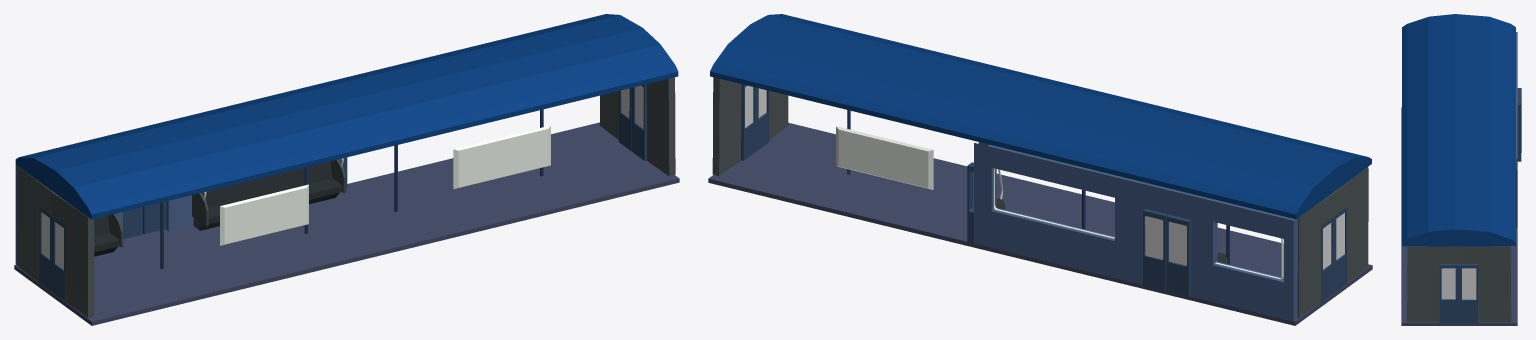
Rendered from kereta kertaan2.fbx.
3 renders of one model, left to right at view 1: azimuth 30°, elevation 25°; view 2: azimuth 150°, elevation 25°; view 3: azimuth 270°, elevation 25°, orthographic. The views are drawn at different scales.
Visible parts, largest first — view 1: Atap, Lantai, Tembok.003, Jendela.002, Jendela, Tembok.2, Kursi.001, Tembok, Pintu.1, HandRest.001, Pintu.004, Pintu.003 (+4 smaller); view 2: Atap, Tembok, Lantai, Tembok.003, Jendela.003, Tembok.2, Pintu(bg).001, Pintu(bg).002, Pintu.002, Kaca(bg).003, Pintu.004, Pintu.003 (+3 smaller); view 3: Atap, Tembok.2, Lantai, Pintu.1, Pintu.002, Kaca.001, Kaca, Pintu(bg).002, Tembok, Pintu(bg).004.
Part boxes in pixels (left/top/right/bottom): Atap: left=15, top=14, right=678, bottom=219; Lantai: left=14, top=122, right=679, bottom=325; Tembok.003: left=18, top=167, right=94, bottom=317; Jendela.002: left=453, top=125, right=550, bottom=189; Jendela: left=220, top=184, right=308, bottom=245; Tembok.2: left=599, top=77, right=675, bottom=176; Kursi.001: left=193, top=161, right=342, bottom=230; Tembok: left=15, top=159, right=340, bottom=265; Pintu.1: left=632, top=84, right=646, bottom=160; HandRest.001: left=192, top=159, right=345, bottom=226; Pintu.004: left=39, top=206, right=52, bottom=292; Pintu.003: left=52, top=216, right=65, bottom=301; Atap: left=710, top=14, right=1371, bottom=219; Tembok: left=974, top=142, right=1297, bottom=321; Lantai: left=708, top=122, right=1372, bottom=325; Tembok.003: left=1297, top=167, right=1368, bottom=317; Jendela.003: left=836, top=126, right=933, bottom=189; Tembok.2: left=712, top=77, right=788, bottom=175; Pintu(bg).001: left=1166, top=214, right=1191, bottom=296; Pintu(bg).002: left=1143, top=209, right=1167, bottom=291; Pintu.002: left=741, top=84, right=756, bottom=160; Kaca(bg).003: left=1145, top=216, right=1163, bottom=259; Pintu.004: left=1321, top=217, right=1334, bottom=302; Pintu.003: left=1334, top=207, right=1347, bottom=292; Atap: left=1402, top=14, right=1515, bottom=246; Tembok.2: left=1407, top=246, right=1511, bottom=322; Lantai: left=1401, top=107, right=1517, bottom=325; Pintu.1: left=1439, top=264, right=1458, bottom=322; Pintu.002: left=1459, top=264, right=1478, bottom=322; Kaca.001: left=1462, top=268, right=1476, bottom=299; Kaca: left=1441, top=268, right=1455, bottom=299; Pintu(bg).002: left=1517, top=96, right=1521, bottom=161; Tembok: left=1516, top=32, right=1517, bottom=161; Pintu(bg).004: left=1516, top=162, right=1517, bottom=227.
Size of the model in its own units: 4848 by 1007 by 1138.
